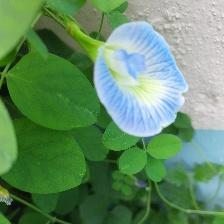shankupushpam: (92, 21, 191, 140)
